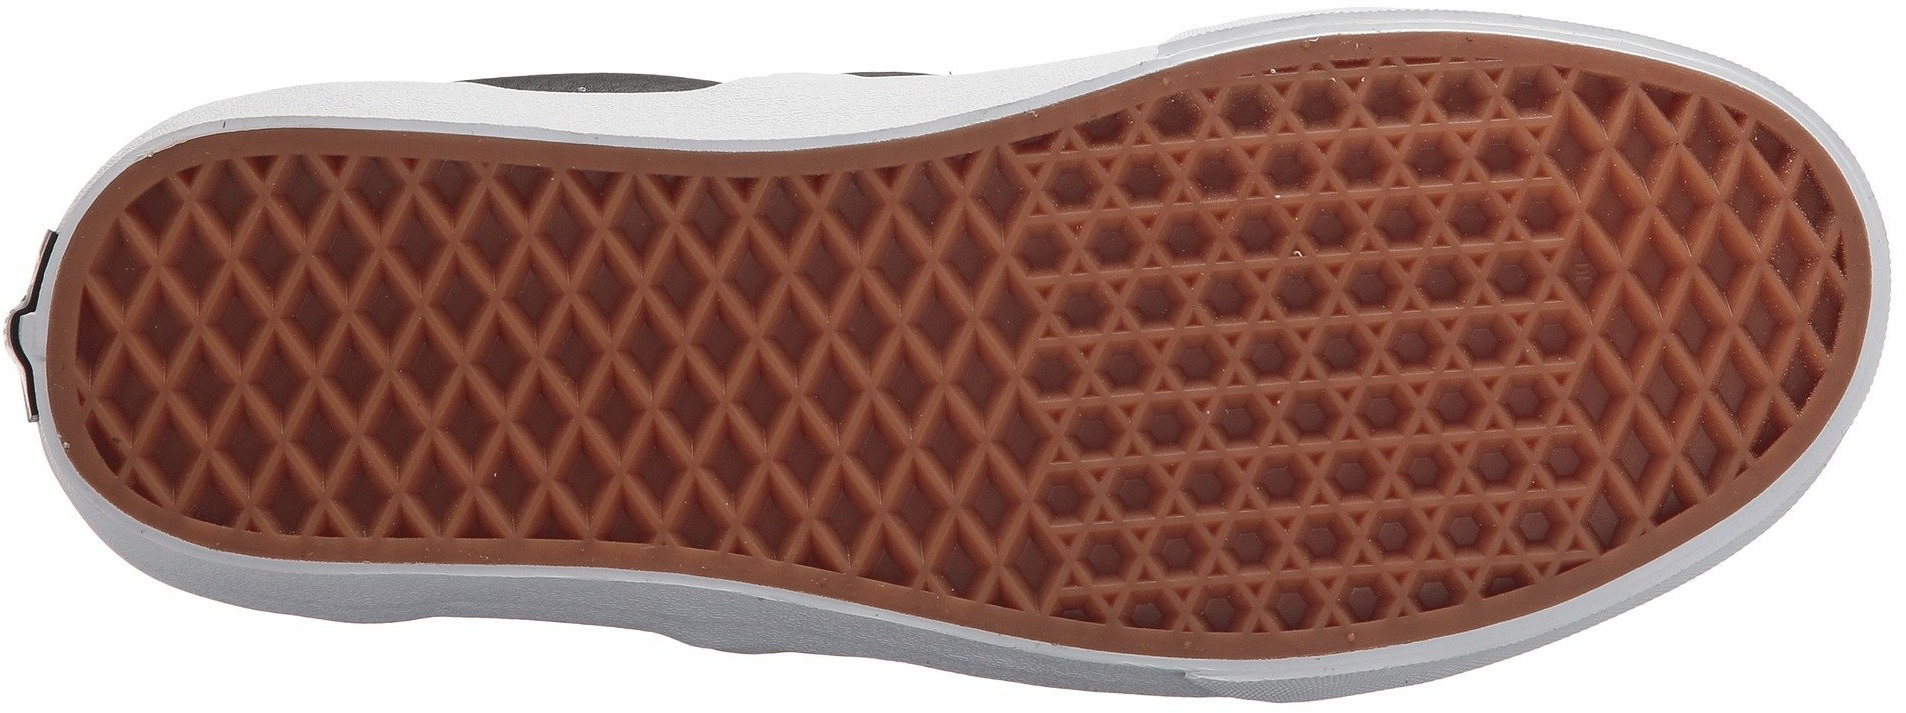polygon: (1250, 73, 1547, 369), (1062, 373, 1301, 606), (1313, 374, 1529, 596), (1039, 146, 1233, 366)
quad: (683, 188, 970, 479), (1585, 152, 1820, 380), (98, 236, 321, 474), (318, 181, 554, 366), (333, 373, 501, 531), (511, 373, 665, 527)
triangle: (1250, 73, 1547, 369), (1062, 373, 1301, 606), (1313, 374, 1529, 596), (1039, 146, 1233, 366)
